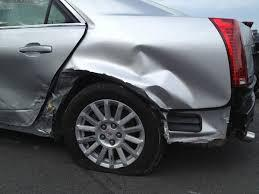doorouter-dent: (0, 24, 49, 124)
quaterpanel-dent: (85, 22, 225, 113), (55, 69, 121, 128)
